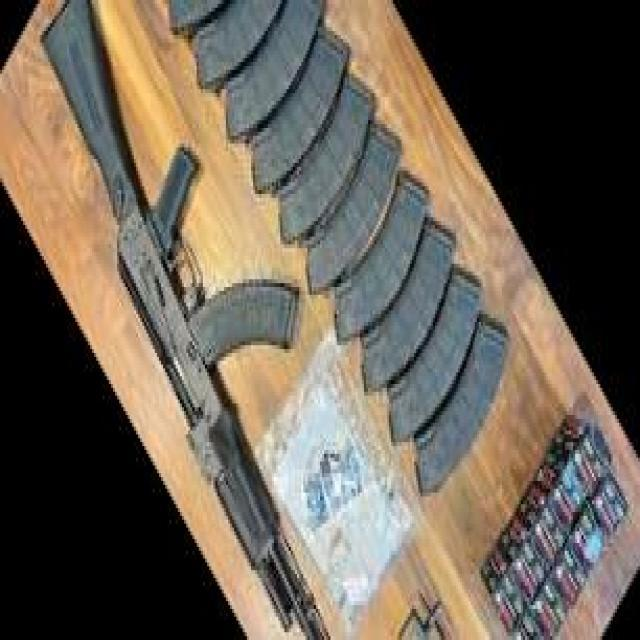weapon: (39, 0, 333, 640)
